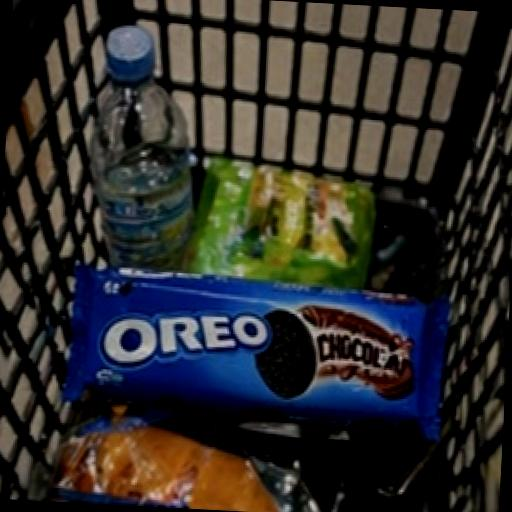oreo: (30, 194, 490, 489)
